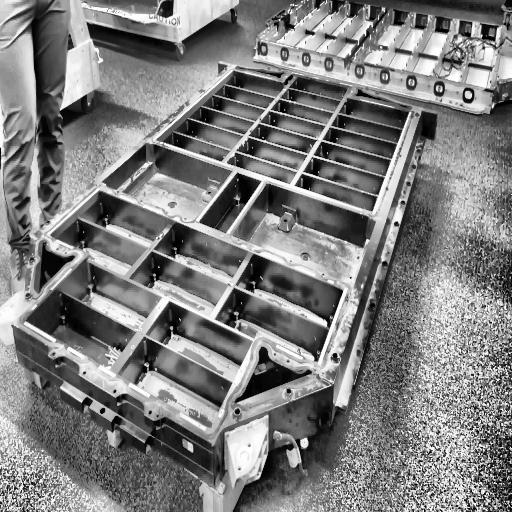b_casing: (11, 56, 440, 444)
